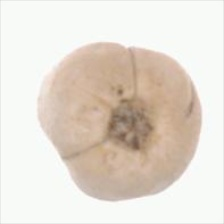L4: (36, 42, 202, 201)
